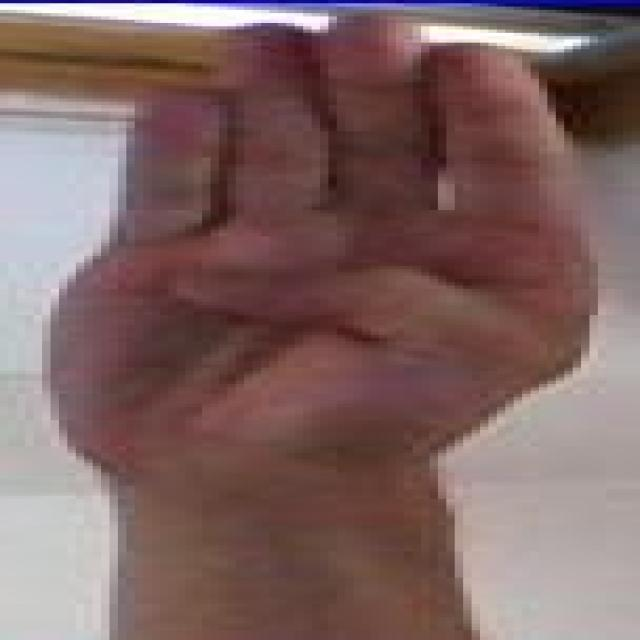B: (23, 7, 627, 505)
